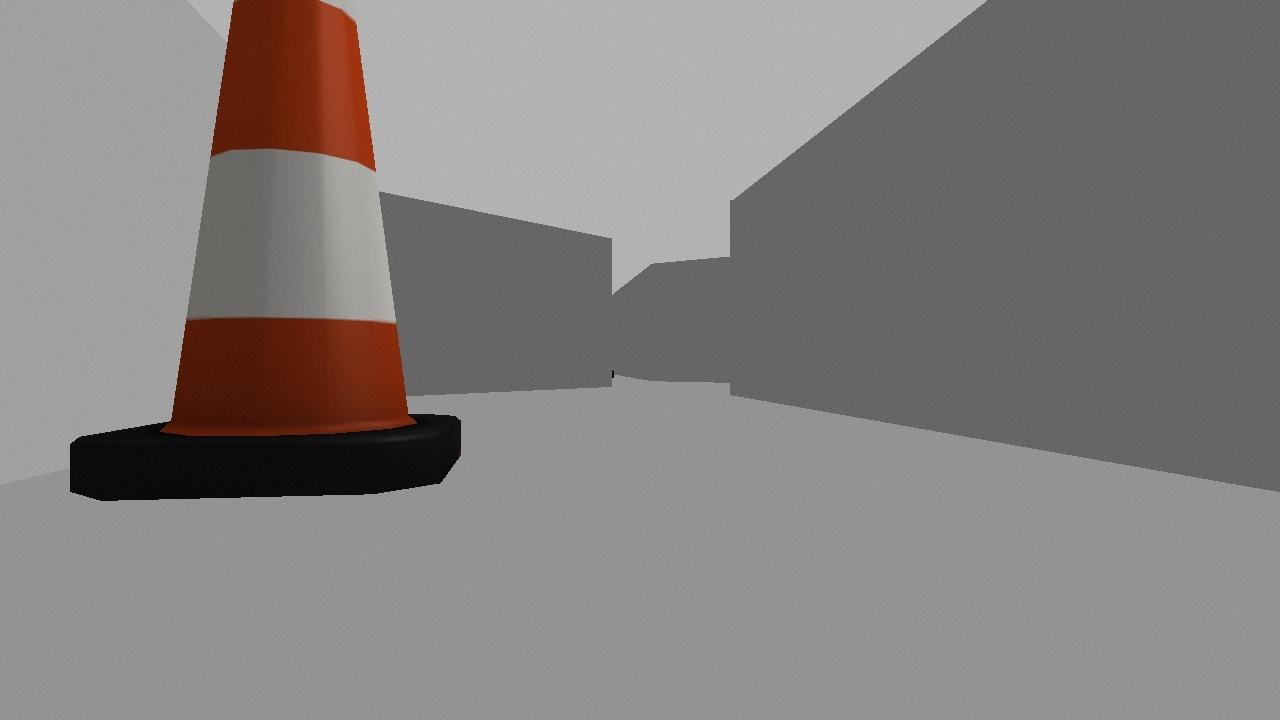cone_barrel: (64, 0, 464, 504)
